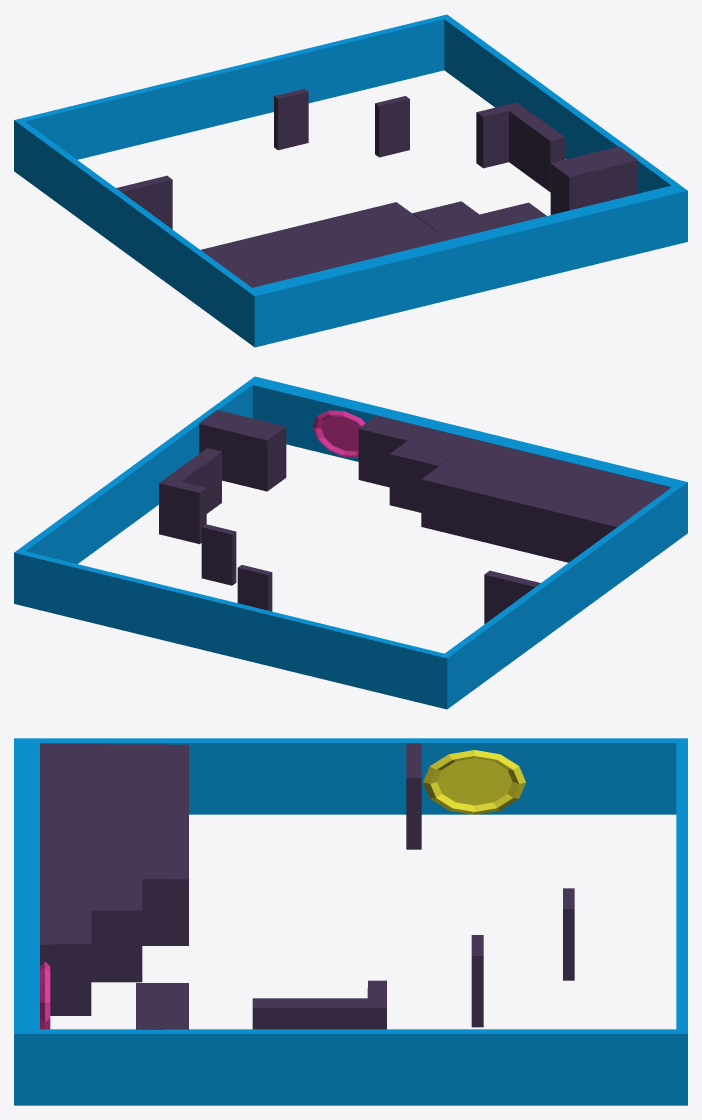
Rendered from SalaC.glb.
The picture shows the model from 3 angles, top to bottom: view 1: azimuth 30°, elevation 25°; view 2: azimuth 150°, elevation 25°; view 3: azimuth 270°, elevation 25°; orthographic projection. The views are drawn at different scales.
Visible parts, largest first — view 1: MeshC-col, plataforma.013-col, plataforma.012-col, plataforma.014-col, plataforma.015-col; view 2: MeshC-col, plataforma.013-col, plataforma.012-col, plataforma.015-col, plataforma.014-col, portalRosa.001; view 3: MeshC-col, plataforma.013-col, plataforma.012-col, portalYellow.001, plataforma.014-col, plataforma.015-col, portalRosa.001.
Part boxes in pixels (bbox=[...]): MeshC-col: bbox=[14, 14, 687, 347]; plataforma.013-col: bbox=[201, 202, 448, 287]; plataforma.012-col: bbox=[116, 88, 546, 239]; plataforma.014-col: bbox=[476, 102, 565, 192]; plataforma.015-col: bbox=[550, 146, 637, 214]; MeshC-col: bbox=[14, 376, 687, 709]; plataforma.013-col: bbox=[421, 439, 670, 562]; plataforma.012-col: bbox=[201, 415, 540, 624]; plataforma.015-col: bbox=[199, 410, 286, 491]; plataforma.014-col: bbox=[159, 448, 221, 544]; portalRosa.001: bbox=[312, 410, 365, 457]; MeshC-col: bbox=[14, 738, 687, 1105]; plataforma.013-col: bbox=[40, 743, 188, 945]; plataforma.012-col: bbox=[40, 743, 574, 1027]; portalYellow.001: bbox=[423, 750, 525, 814]; plataforma.014-col: bbox=[252, 980, 386, 1029]; plataforma.015-col: bbox=[136, 983, 188, 1029]; portalRosa.001: bbox=[40, 962, 50, 1029].
Size of the model in its own units: 139 by 15.68 by 134.
